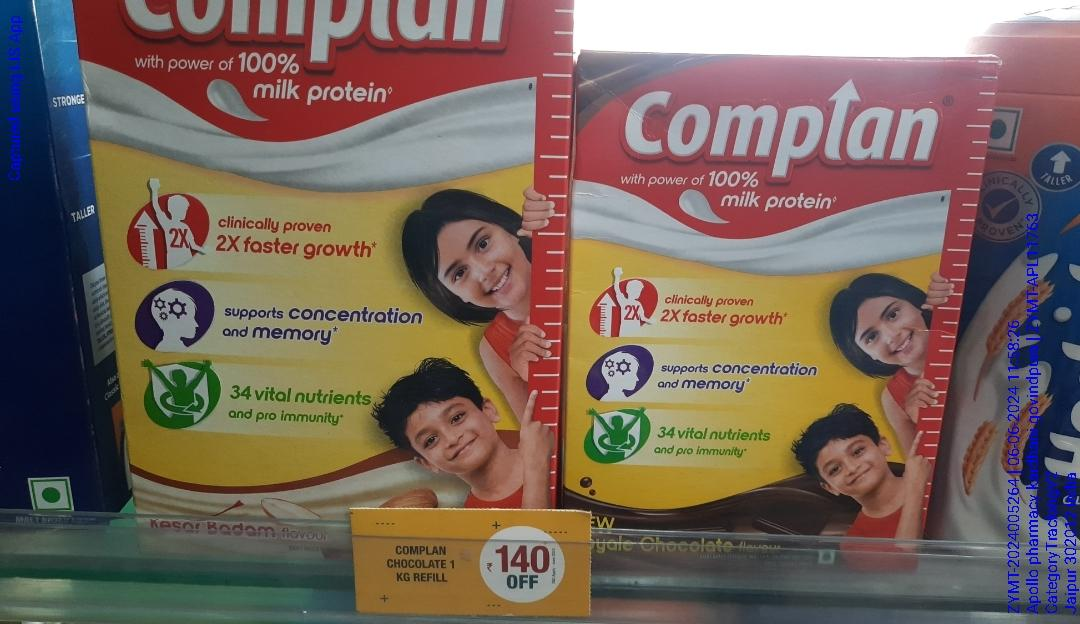COMPLAN_CHOCOLATE_200_GMS_PACK: (571, 57, 954, 569)
COMPLAN_KESAR_BADAM_500_GMS_PACK: (89, 0, 557, 533)
